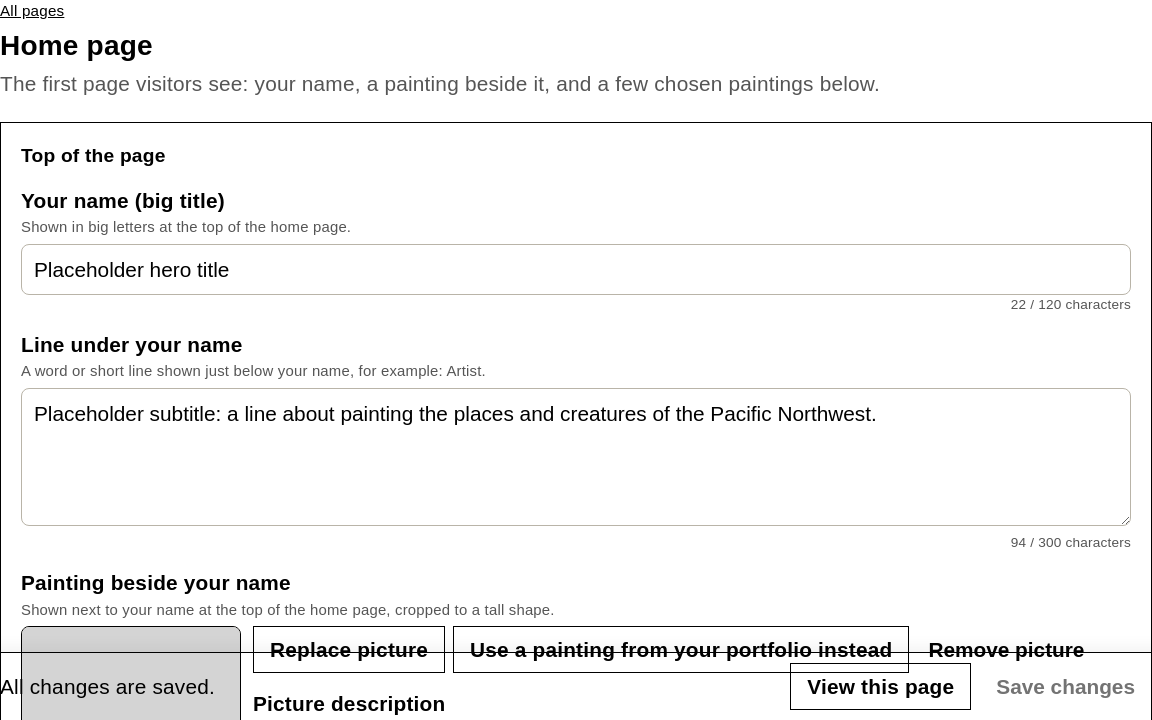
Scenario: page editor › shows the conflict message and a Reload button on 409
Type "!" into the field labelled "Your name (big title)". click: (576, 269)
box: [21,244,1131,295]
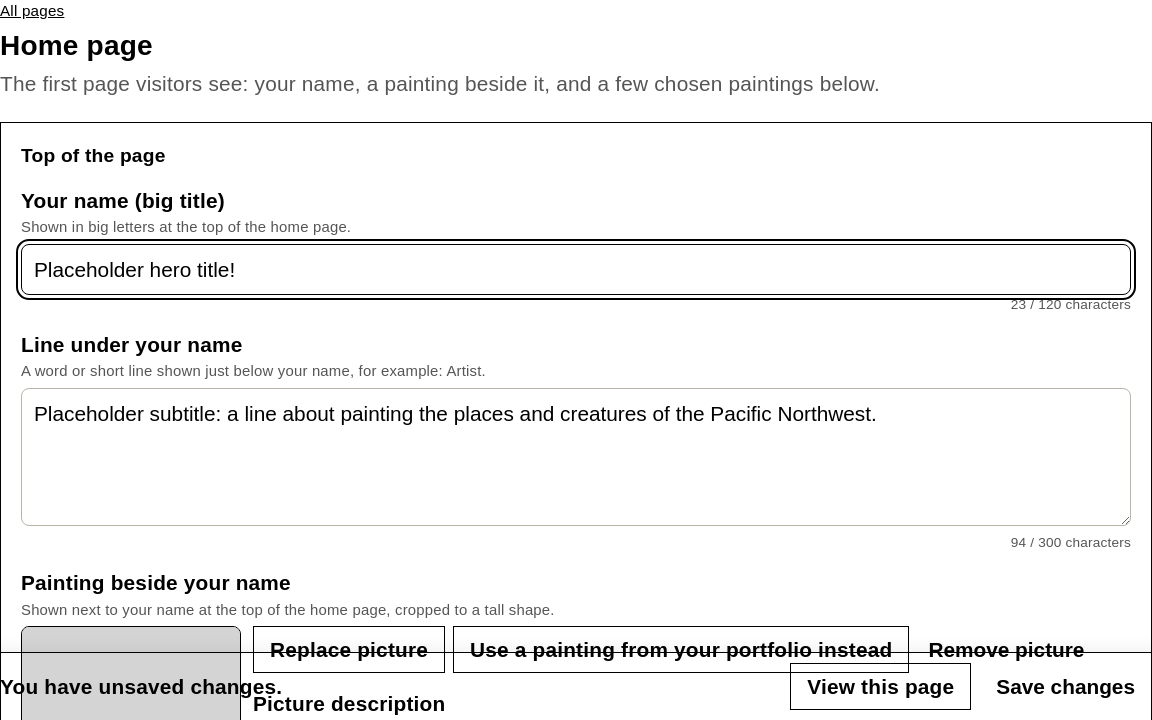
Click the button "Save changes". click: click(1066, 686)
box: [979,663,1151,710]
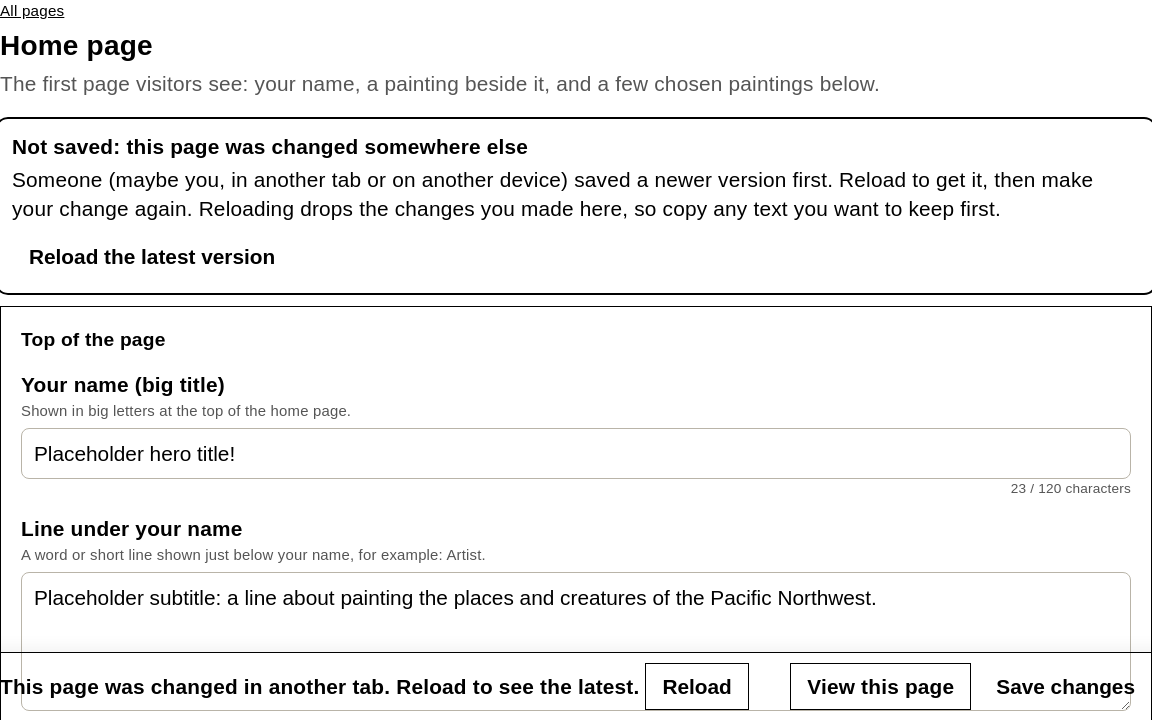
Expected: the message with test id "save-status" shows "This page was changed in another tab. Reload to see the latest.", [0,675,640,698]
Expected: the button "Reload" is shown, [646,663,749,710]
Expected: the message with test id "outdated-notice" shows "Not saved: this page was changed somewhere else", [12,135,528,158]
